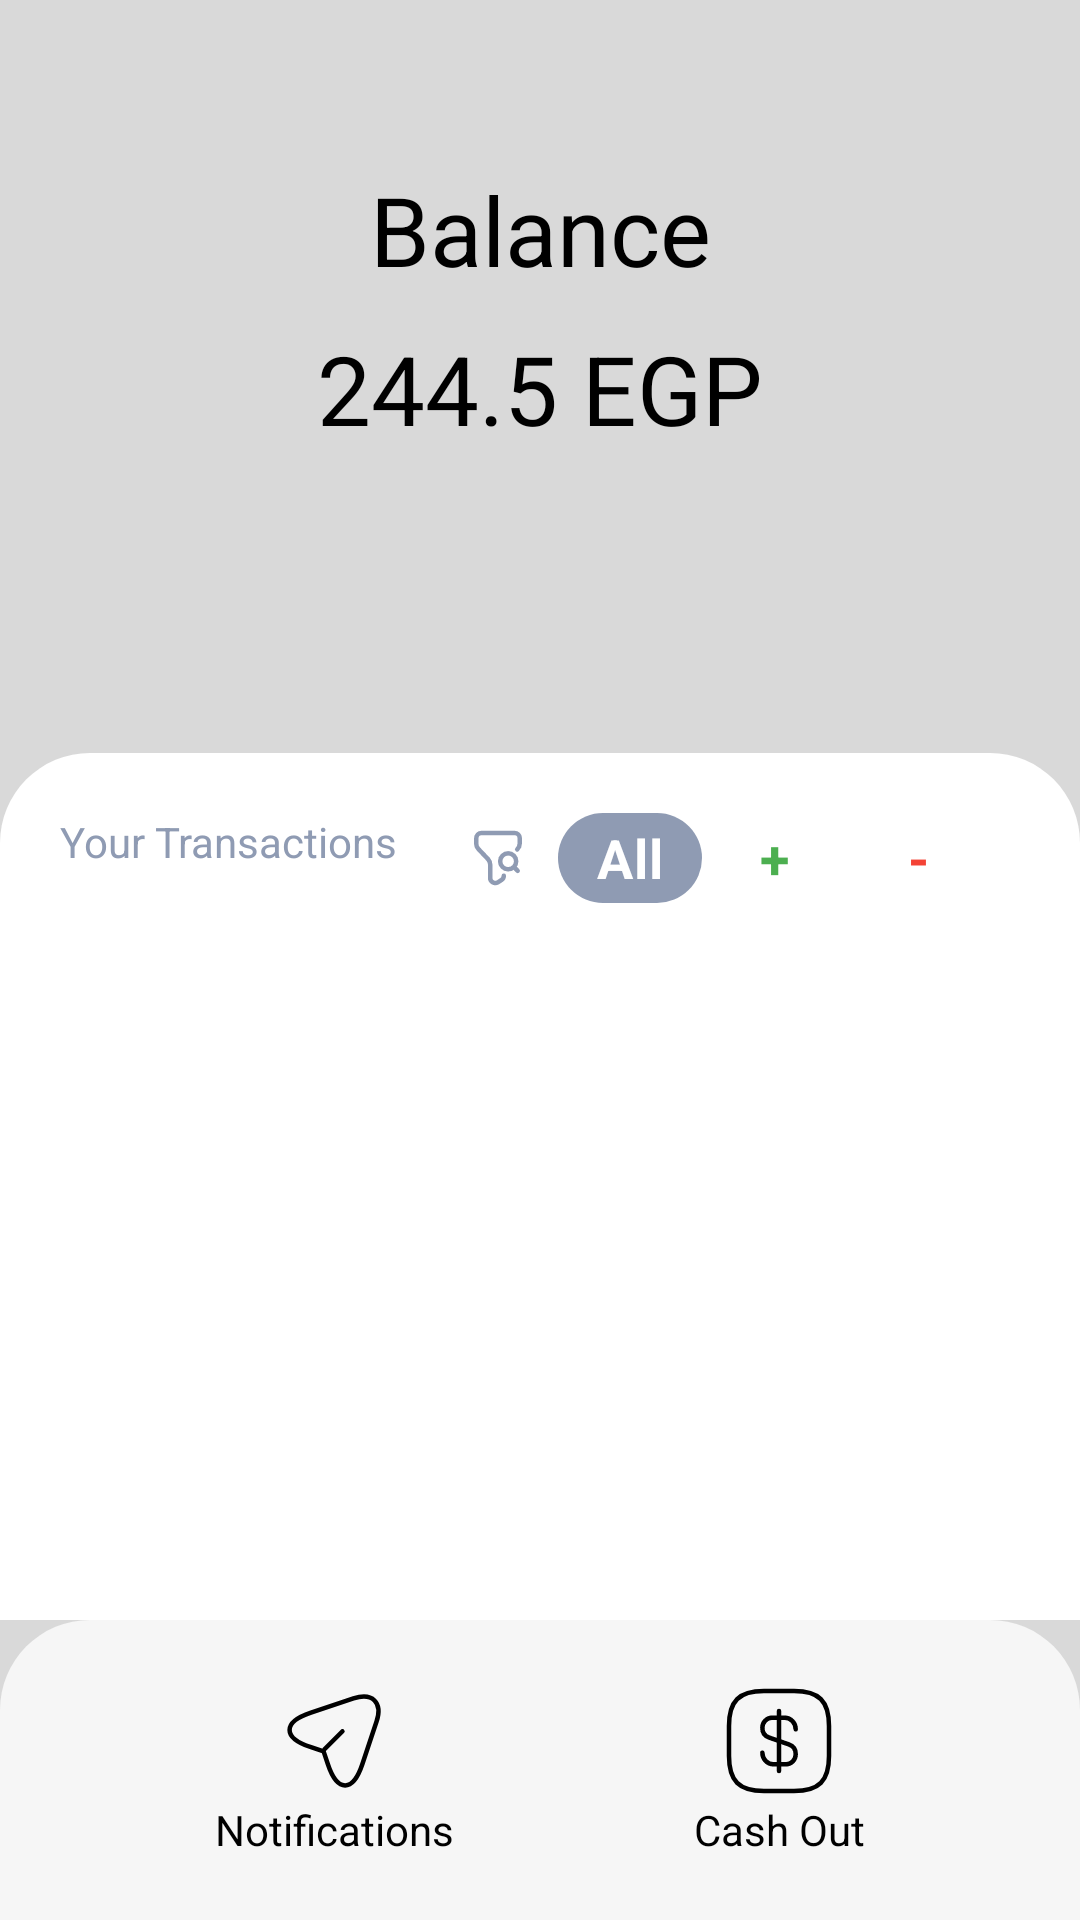

Icons on this 1080×1920 Android screen, each with the point to tap as (x=x, y=y):
filter: (x=498, y=858)
